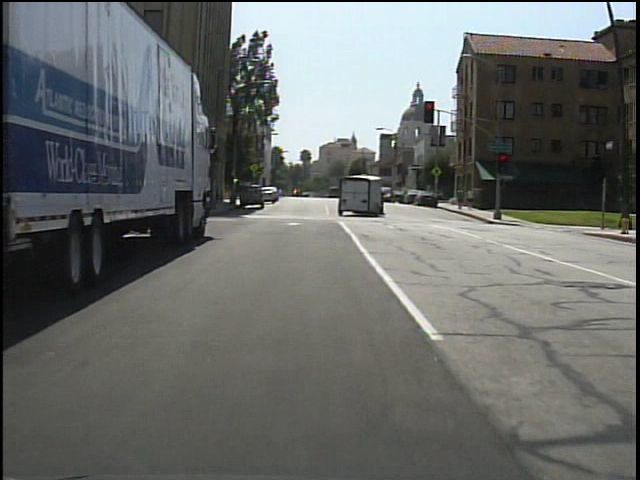person: (455, 185, 467, 211), (466, 186, 478, 212)
